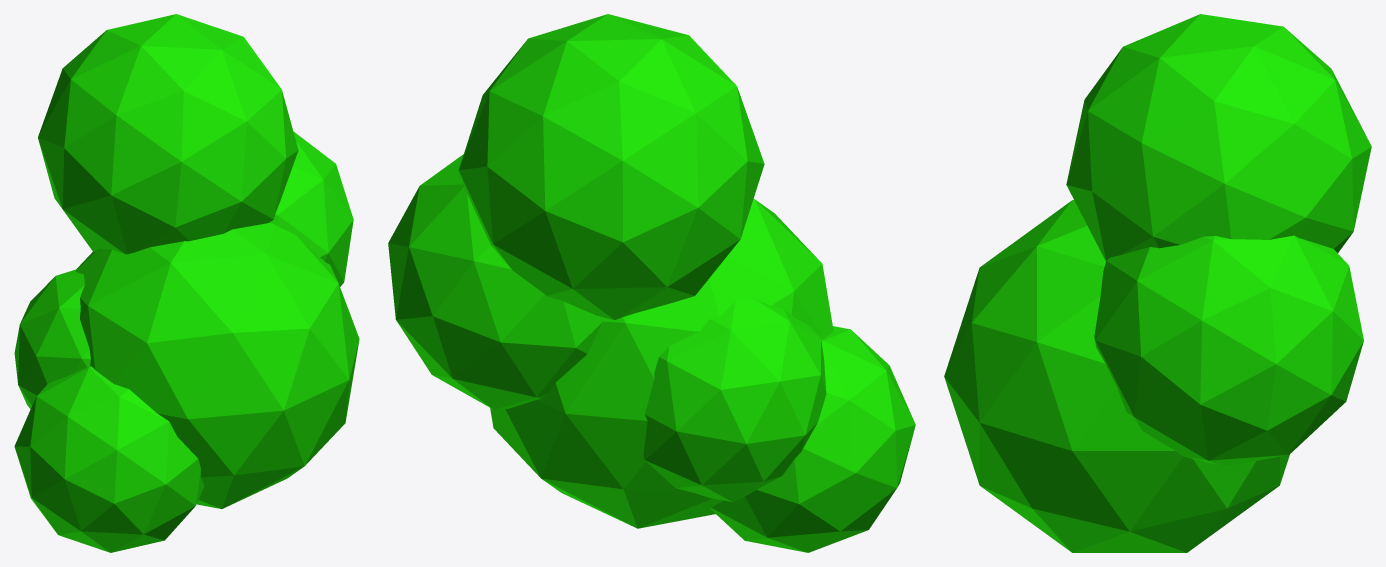
File: bush 3.fbx
The picture shows the model from 3 angles, left to right: view 1: azimuth 30°, elevation 25°; view 2: azimuth 150°, elevation 25°; view 3: azimuth 270°, elevation 25°; orthographic projection. The views are drawn at different scales.
Parts seen in each view (by area): view 1: Icosphere.002; view 2: Icosphere.002; view 3: Icosphere.002.
Boxes of the visible parts, x1,y1,x2,y2 form: Icosphere.002: (14, 14, 359, 552); Icosphere.002: (388, 14, 915, 552); Icosphere.002: (944, 14, 1371, 552).
Bounding box in the file's own units: 265 × 310 × 230.
